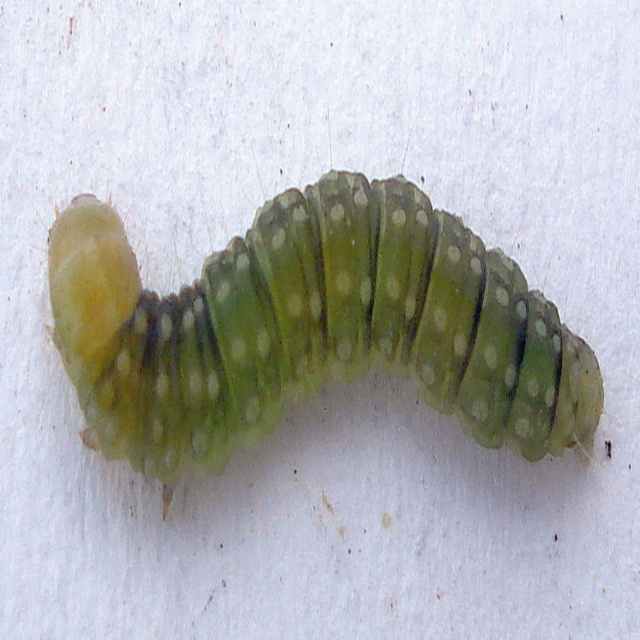Caterpillar: (29, 91, 603, 520)
